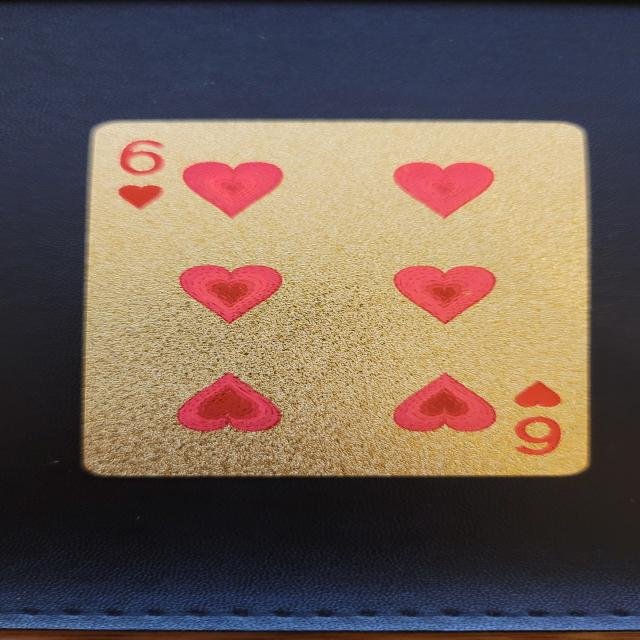6 of hearts: (80, 120, 592, 478)
